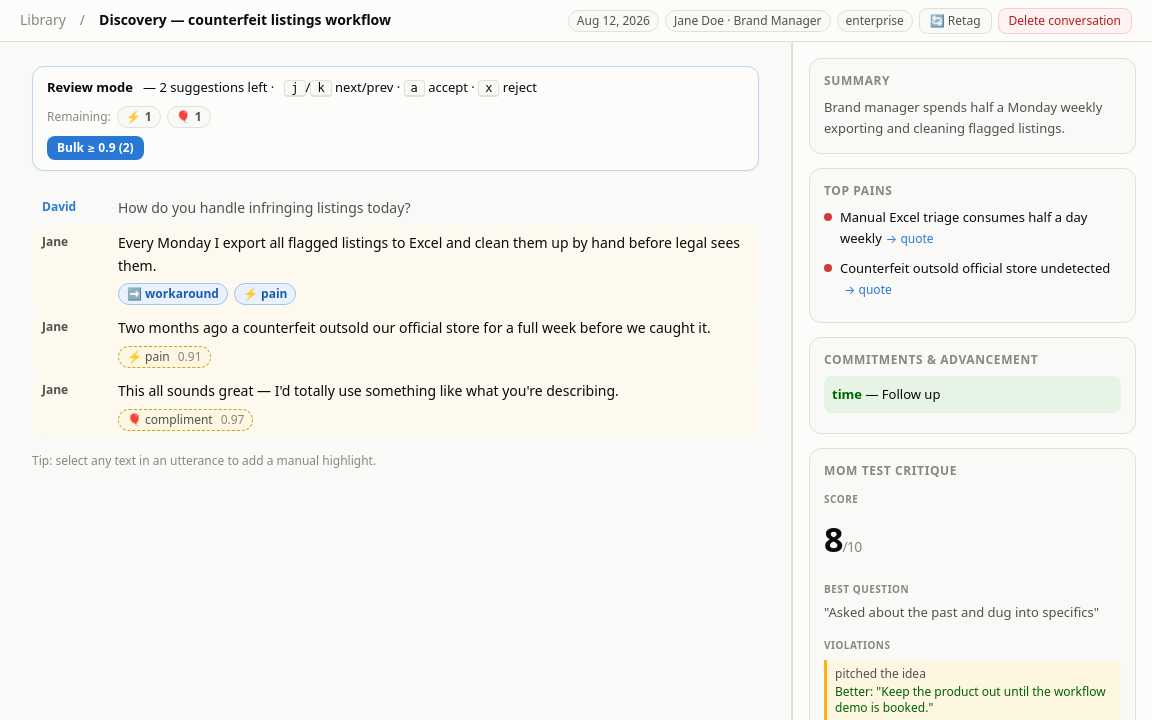
Test case: T17 — Optimistic mutation on accept/reject › accepting a chip switches it from dashed (suggested) to solid immediately
Check: the text "0.91" is shown, box [178,349,202,365]
Click the button "⚡ pain 0.91" at (164, 357), box [118,346,210,368]
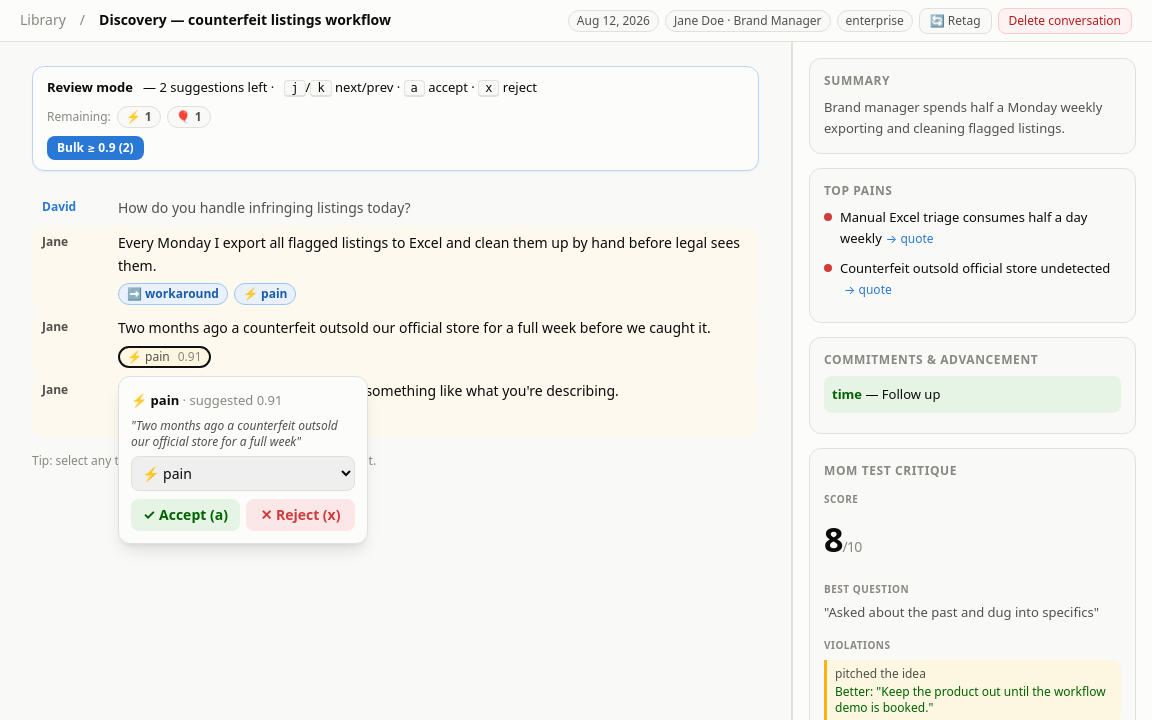
Check: the button "✓ Accept (a)" is shown
Click the button "✓ Accept (a)" at (186, 515), box [131,499,240,531]
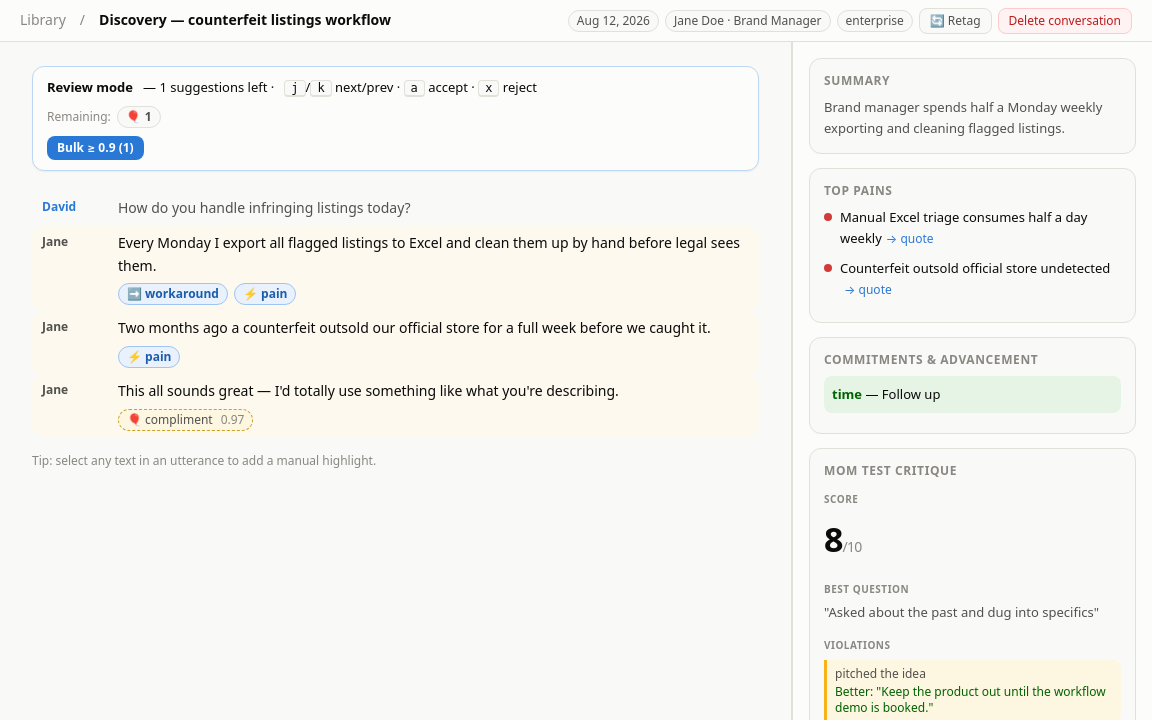
Check: the text "0.91" is gone
